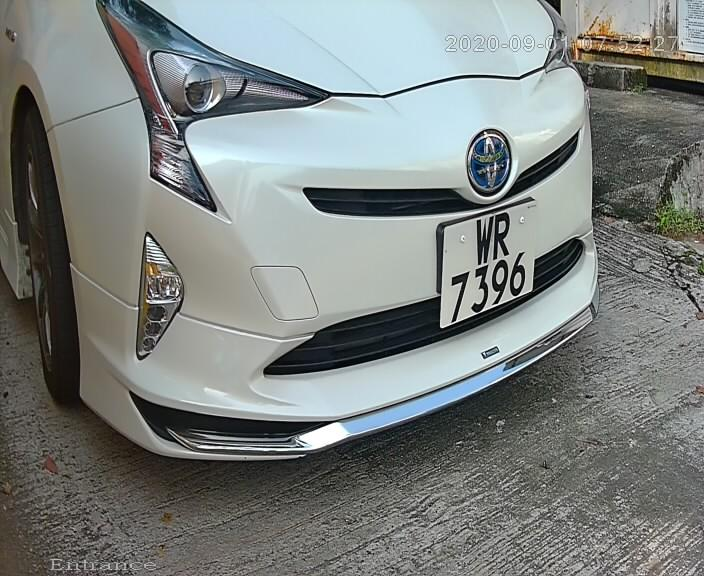License Plate: (428, 204, 547, 335)
